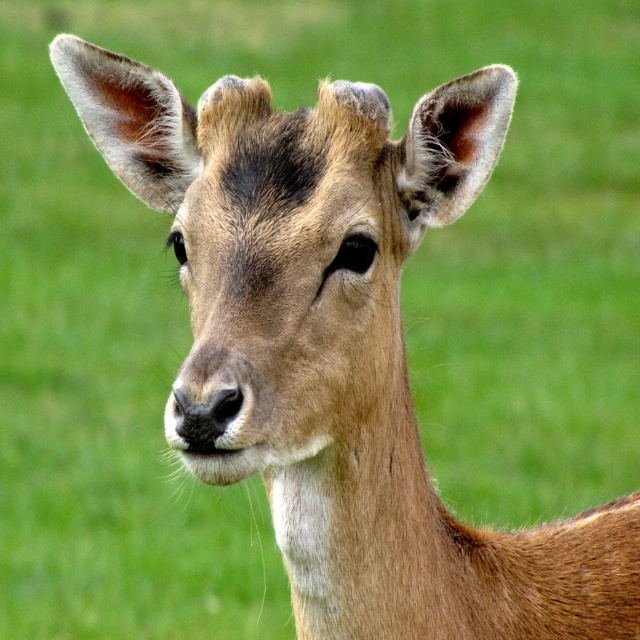Deer: (47, 33, 640, 639)
